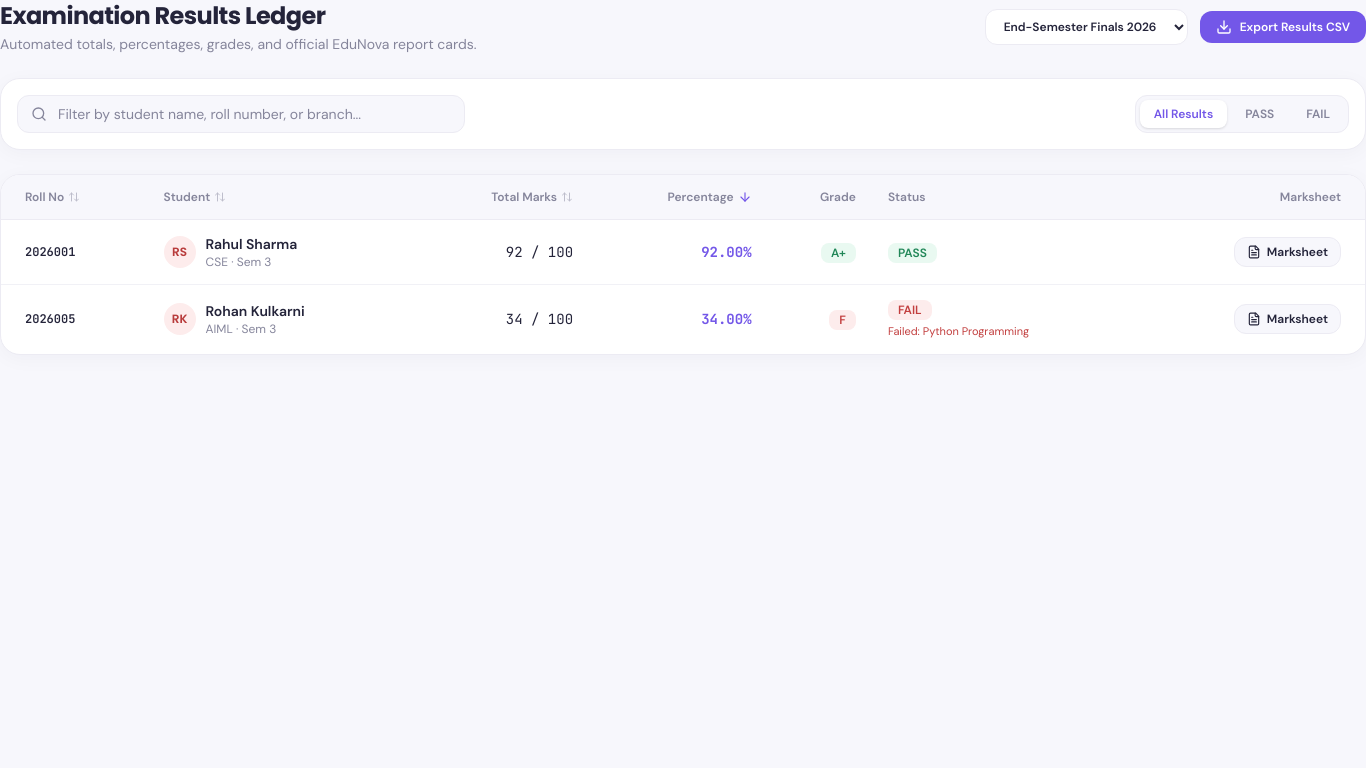
EduNova Frontend Suite › ResultsPage filters PASS/FAIL students and opens EduNova marksheet modal
Check: the text "Rahul Sharma" is shown, box [206,234,297,254]
Check: the text "Rohan Kulkarni" is shown, box [206,301,305,321]
Click the button "FAIL": [1318, 114] box [1292,100,1344,128]
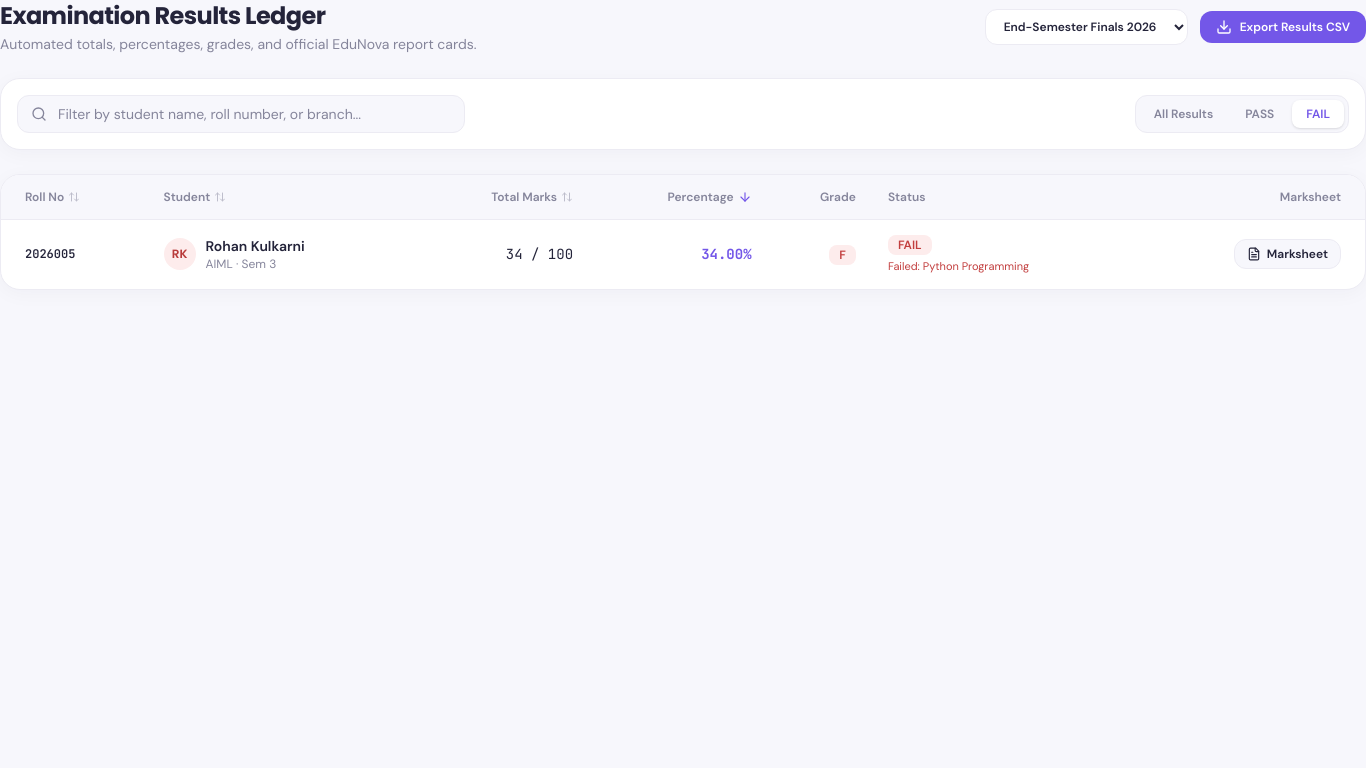
Check: the text "Rohan Kulkarni" is shown, box [206,236,305,256]
Check: the text "Rahul Sharma" is gone
Click the button "Marksheet": [1287, 254] box [1234,239,1341,269]
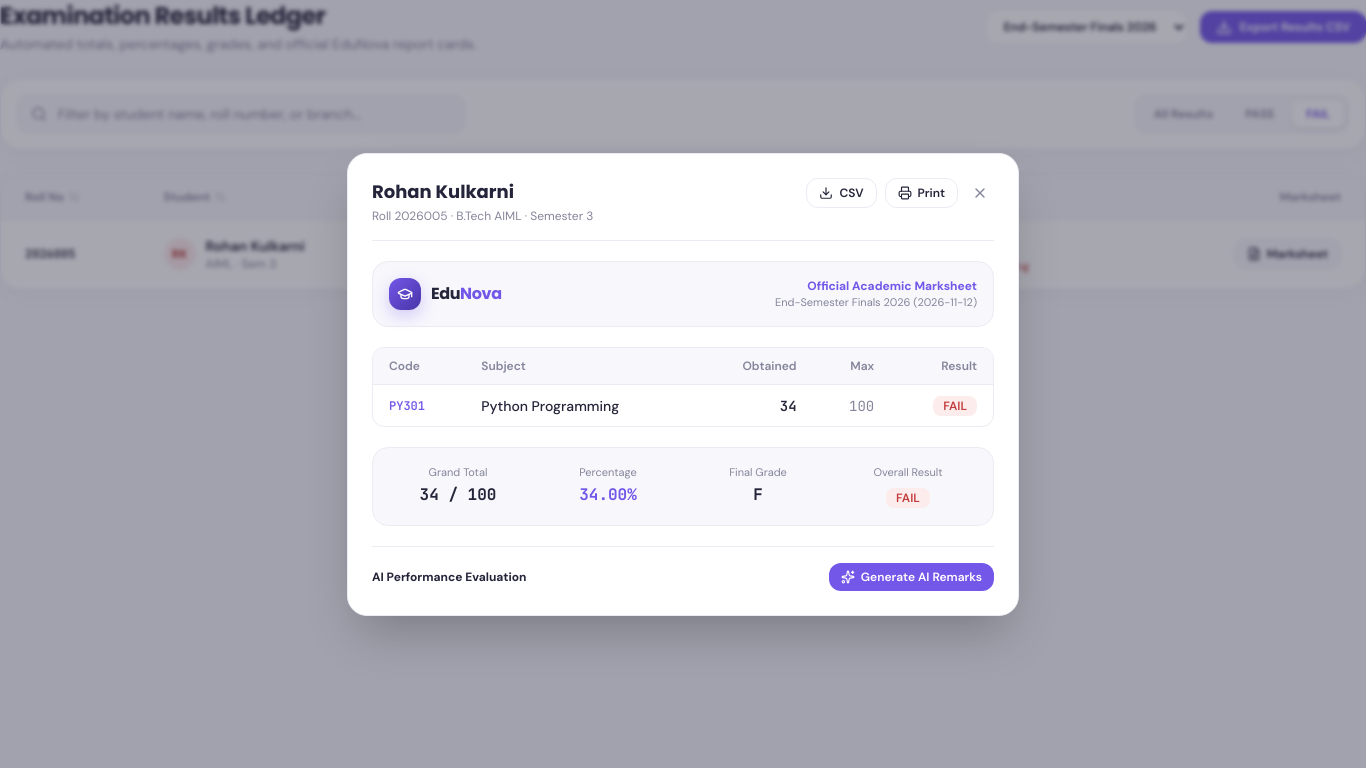
Check: the text "Official Academic Marksheet" is shown, box [807,278,977,294]
